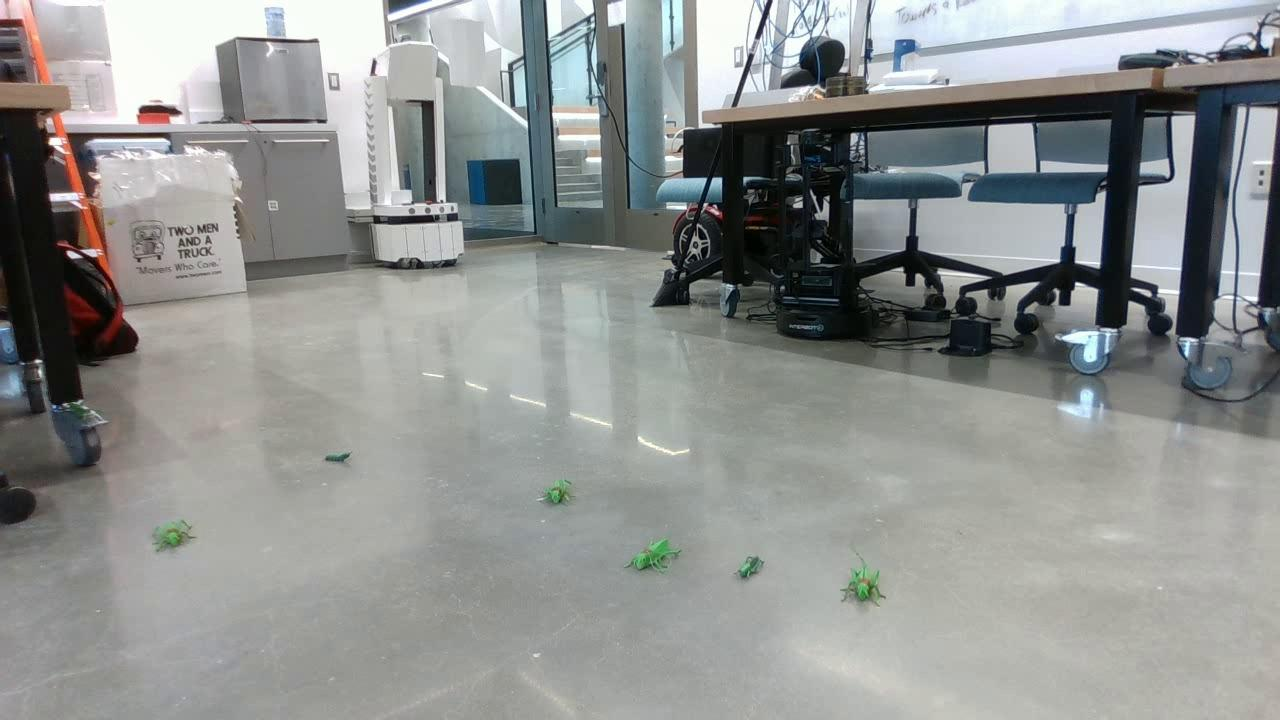grasshopper: (847, 564, 885, 609), (629, 541, 677, 575), (543, 480, 576, 507), (157, 524, 198, 545)
